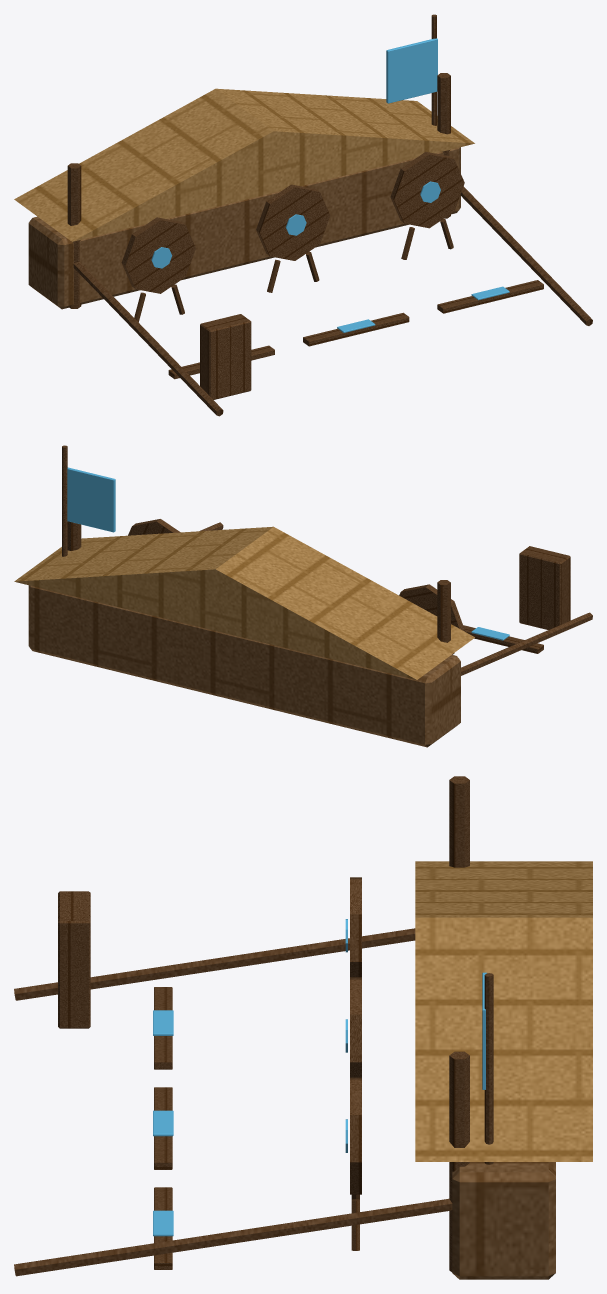
The model's file is edificio-b_000-e0-BbeorQ0M.glb.
3 views of the same model, one above another, from view 1: azimuth 30°, elevation 25°; view 2: azimuth 150°, elevation 25°; view 3: azimuth 270°, elevation 25° (orthographic). The views are drawn at different scales.
Visible parts, largest first — view 1: envolvente_arqueria, team_color; view 2: envolvente_arqueria, team_color; view 3: envolvente_arqueria, team_color.
Part boxes in pixels (x1=…): envolvente_arqueria: x1=14, y1=14, x2=592, y2=416; team_color: x1=151, y1=38, x2=509, y2=332; envolvente_arqueria: x1=14, y1=445, x2=592, y2=747; team_color: x1=67, y1=467, x2=509, y2=640; envolvente_arqueria: x1=14, y1=776, x2=592, y2=1279; team_color: x1=153, y1=919, x2=486, y2=1236.
Bounding box in the file's own units: 48 × 22.44 × 39.07.
Materials: 2 (1 with a texture image).
